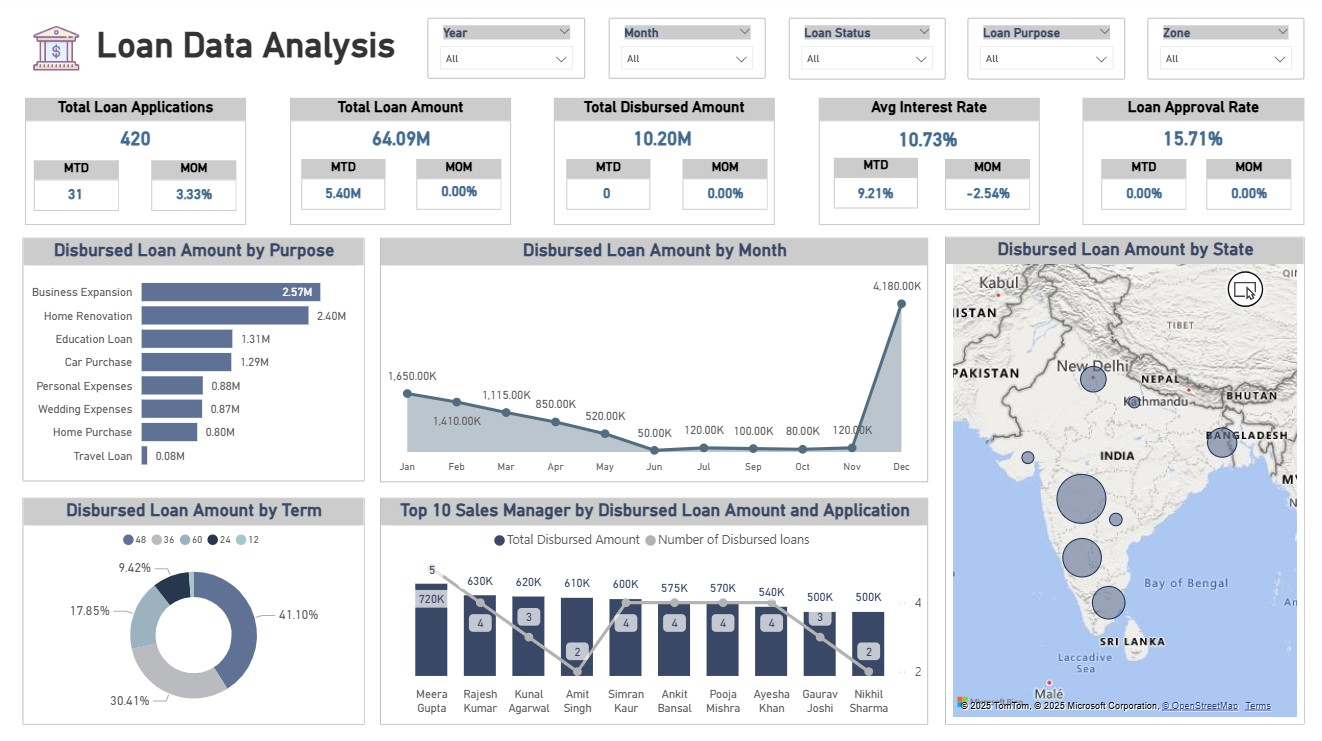

This screenshot's page, from the dashboard's own definition file:
{"tool":"powerbi","page":{"name":"Summary","canvas":[1280,720],"ordinal":0},"visuals":[{"type":"areaChart","title":"Disbursed Loan Amount by Month","fields":{"Y":["Measure.Total Disbursed Amount"],"Category":["Calendar Table.Custom Hierarchy.Month Name"]},"box":[369.3,233.6,525.8,234.8],"z":0},{"type":"textbox","box":[91.7,24.5,321.6,58.7],"z":1000},{"type":"slicer","fields":{"Values":["Calendar Table.Year"]},"box":[414.7,23.1,151.3,58.7],"z":2000},{"type":"slicer","fields":{"Values":["Calendar Table.Month Name"]},"box":[588.5,23.1,150.4,58.7],"z":3000},{"type":"slicer","fields":{"Values":["Data.Zone"]},"box":[1105.2,23.1,150,59.2],"z":4000},{"type":"slicer","fields":{"Values":["Data.Loan_Status"]},"box":[760.5,23.1,150,59.2],"z":5000},{"type":"slicer","fields":{"Values":["Data.Loan_Purpose"]},"box":[932.1,23.1,151.5,59.2],"z":6000},{"type":"map","title":"Disbursed Loan Amount by State","fields":{"Size":["Measure.Total Disbursed Amount"],"Category":["Data.State"]},"box":[911,232.3,344.8,468.3],"z":7000},{"type":"barChart","title":"Disbursed Loan Amount by Purpose","fields":{"Category":["Data.Loan_Purpose"],"Y":["Measure.Total Disbursed Amount"]},"box":[26.9,233.6,327.7,233.6],"z":8000},{"type":"shape","title":"Total  Loan Applications","box":[29.3,99,212,122.3],"z":9000},{"type":"card","title":"Sales","fields":{"Values":["Measure.Total Number of Loans"]},"box":[44,124.7,181,28.1],"z":10000},{"type":"shape","title":"MTD ","box":[36.7,159,81.9,48.9],"z":11000},{"type":"shape","title":"MOM","box":[149.4,159.5,81.9,48.9],"z":12000},{"type":"card","title":"Sales","fields":{"Values":["Measure.MTD Number of Loans"]},"box":[44,178.5,66,29.3],"z":13000},{"type":"card","title":"Sales","fields":{"Values":["Measure.MOM Loan Application Growth %"]},"box":[156.5,178.5,68.5,29.3],"z":14000},{"type":"shape","title":"Total Loan Amount","box":[282.8,99,212,122.3],"z":15000},{"type":"card","title":"Sales","fields":{"Values":["Measure.Total Loan Amount"]},"box":[293.5,124.7,192,28.1],"z":16000},{"type":"shape","title":"MTD","box":[293.5,157.7,80.7,48.9],"z":17000},{"type":"shape","title":"MOM","box":[403.5,157.7,81.9,48.9],"z":18000},{"type":"card","title":"Sales","fields":{"Values":["Measure.MTD Loan Amount"]},"box":[300.8,177.3,66,29.3],"z":19000},{"type":"card","title":"Sales","fields":{"Values":["Measure.MOM Loan Growth %"]},"box":[408.4,176.1,73.4,29.3],"z":20000},{"type":"shape","title":"Total Disbursed Amount","box":[536.2,99,212,122.3],"z":21000},{"type":"card","title":"Sales","fields":{"Values":["Measure.Total Disbursed Amount"]},"box":[547.8,124.7,184.6,28.1],"z":22000},{"type":"shape","title":"MTD","box":[547.8,157.7,80.7,48.9],"z":23000},{"type":"shape","title":"MOM","box":[659.1,157.7,81.9,48.9],"z":24000},{"type":"card","title":"Sales","fields":{"Values":["Measure.MTD Disbursed Amount"]},"box":[553.9,177.3,66,29.3],"z":25000},{"type":"card","title":"Sales","fields":{"Values":["Measure.MOM Disbursed Growth %"]},"box":[667.7,177.3,66,29.3],"z":26000},{"type":"shape","title":"Avg Interest Rate","box":[789.6,99,212,122.3],"z":27000},{"type":"card","title":"Sales","fields":{"Values":["Measure.Avg Interest Rate"]},"box":[804.6,126,181,28.1],"z":28000},{"type":"shape","title":"MTD","box":[804.6,156.5,80.7,48.9],"z":29000},{"type":"shape","title":"MOM","box":[911,157.7,81.9,48.9],"z":30000},{"type":"card","title":"Sales","fields":{"Values":["Measure.MTD Avg Interest Rate"]},"box":[812,177.3,66,29.3],"z":31000},{"type":"card","title":"Sales","fields":{"Values":["Measure.MOM Avg Interest Rate %"]},"box":[919.6,177.3,66,29.3],"z":32000},{"type":"shape","title":"Loan Approval Rate","box":[1043.1,99,212.8,122.3],"z":33000},{"type":"card","title":"Sales","fields":{"Values":["Measure.Loan Approved rate"]},"box":[1060.2,124.7,176.1,28.1],"z":34000},{"type":"shape","title":"MTD","box":[1060.2,157.7,81.9,48.9],"z":35000},{"type":"shape","title":"MOM","box":[1161.7,157.7,81.9,48.9],"z":36000},{"type":"card","title":"Sales","fields":{"Values":["Measure.MTD Loan Approval Rate"]},"box":[1068.8,177.3,66,29.3],"z":37000},{"type":"card","title":"Sales","fields":{"Values":["Measure.MOM Loan Approval Rate %"]},"box":[1170.3,177.3,66,29.3],"z":38000},{"type":"donutChart","title":"Disbursed Loan Amount by Term","fields":{"Category":["Data.Loan_Tenure (Months)"],"Y":["Measure.Total Disbursed Amount"]},"box":[26.9,483,327.7,217.7],"z":39000},{"type":"lineStackedColumnComboChart","title":"Top 10 Sales Manager by Disbursed Loan Amount and Application","fields":{"Y":["Measure.Total Disbursed Amount"],"Y2":["Measure.Number of Disbursed loans"],"Category":["Sales Manager Master.Sales_Manager_Name"]},"box":[369.3,483,525.8,217.7],"z":40000},{"type":"image","box":[26.9,23.2,64.8,58.7],"z":41001}]}

Visuals, with their boxes in screenshot pixels (x1, y1, x2, y2), scaled from the page's 1280x720 canvas onto the 1322x741 screenshot:
"Disbursed Loan Amount by Month" areaChart: (381, 240, 924, 482)
textbox: (95, 25, 427, 86)
slicer - Calendar Table.Year: (428, 24, 585, 84)
slicer - Calendar Table.Month Name: (608, 24, 763, 84)
slicer - Data.Zone: (1141, 24, 1296, 85)
slicer - Data.Loan_Status: (785, 24, 940, 85)
slicer - Data.Loan_Purpose: (963, 24, 1119, 85)
"Disbursed Loan Amount by State" map: (941, 239, 1297, 721)
"Disbursed Loan Amount by Purpose" barChart: (28, 240, 366, 481)
"Total  Loan Applications" shape: (30, 102, 249, 228)
"Sales" card: (45, 128, 232, 157)
"MTD " shape: (38, 164, 122, 214)
"MOM" shape: (154, 164, 239, 214)
"Sales" card: (45, 184, 114, 214)
"Sales" card: (162, 184, 232, 214)
"Total Loan Amount" shape: (292, 102, 511, 228)
"Sales" card: (303, 128, 501, 157)
"MTD" shape: (303, 162, 386, 213)
"MOM" shape: (417, 162, 501, 213)
"Sales" card: (311, 182, 379, 213)
"Sales" card: (422, 181, 498, 211)
"Total Disbursed Amount" shape: (554, 102, 773, 228)
"Sales" card: (566, 128, 756, 157)
"MTD" shape: (566, 162, 649, 213)
"MOM" shape: (681, 162, 765, 213)
"Sales" card: (572, 182, 640, 213)
"Sales" card: (690, 182, 758, 213)
"Avg Interest Rate" shape: (816, 102, 1034, 228)
"Sales" card: (831, 130, 1018, 159)
"MTD" shape: (831, 161, 914, 211)
"MOM" shape: (941, 162, 1025, 213)
"Sales" card: (839, 182, 907, 213)
"Sales" card: (950, 182, 1018, 213)
"Loan Approval Rate" shape: (1077, 102, 1297, 228)
"Sales" card: (1095, 128, 1277, 157)
"MTD" shape: (1095, 162, 1180, 213)
"MOM" shape: (1200, 162, 1284, 213)
"Sales" card: (1104, 182, 1172, 213)
"Sales" card: (1209, 182, 1277, 213)
"Disbursed Loan Amount by Term" donutChart: (28, 497, 366, 721)
"Top 10 Sales Manager by Disbursed Loan Amount and Application" lineStackedColumnComboChart: (381, 497, 924, 721)
image: (28, 24, 95, 84)
